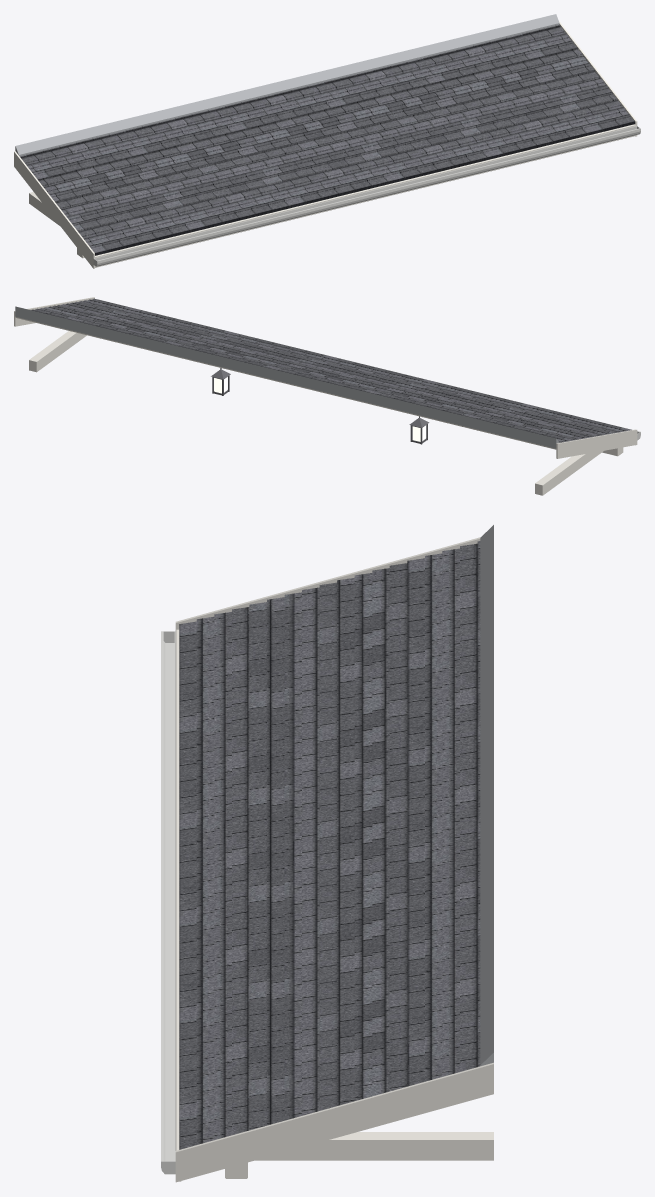
Rendered from porch_roof.glb.
3 renders of one model, top to bottom at view 1: azimuth 30°, elevation 25°; view 2: azimuth 150°, elevation 25°; view 3: azimuth 270°, elevation 25°, orthographic. The views are drawn at different scales.
Parts seen in each view (by area): view 1: porch_roof_shingles, porch_roof_metal, porch_roof_gutter, porch_roof_trim; view 2: porch_roof_shingles, porch_roof_metal, porch_roof_trim, porch_roof_ceiling, porch_roof_iron, porch_roof_gutter, porch_roof_lamp_glass; view 3: porch_roof_shingles, porch_roof_trim, porch_roof_gutter, porch_roof_metal.
Part boxes in pixels (x1,y1,x2,y2): porch_roof_shingles: (20,24,634,255); porch_roof_metal: (15,14,559,156); porch_roof_gutter: (93,126,640,266); porch_roof_trim: (14,20,637,268); porch_roof_shingles: (31,298,631,442); porch_roof_metal: (15,306,559,448); porch_roof_trim: (14,297,637,495); porch_roof_ceiling: (15,317,556,449); porch_roof_iron: (211,368,429,444); porch_roof_gutter: (98,299,640,440); porch_roof_lamp_glass: (214,377,425,441); porch_roof_shingles: (179,541,480,1149); porch_roof_trim: (175,537,493,1182); porch_roof_gutter: (161,631,175,1174); porch_roof_metal: (480,525,493,1066).
Size of the model in its own units: 10.96 by 1.38 by 2.91.
8 materials, 2 textured.
